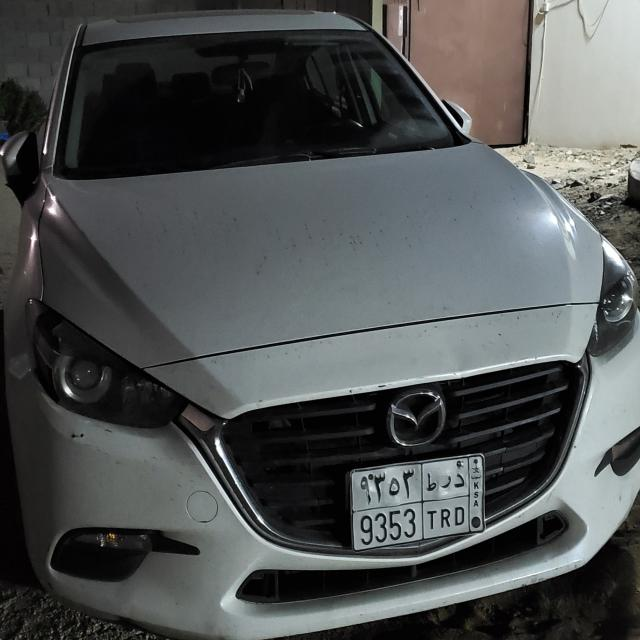license_plate: (348, 452, 487, 554)
